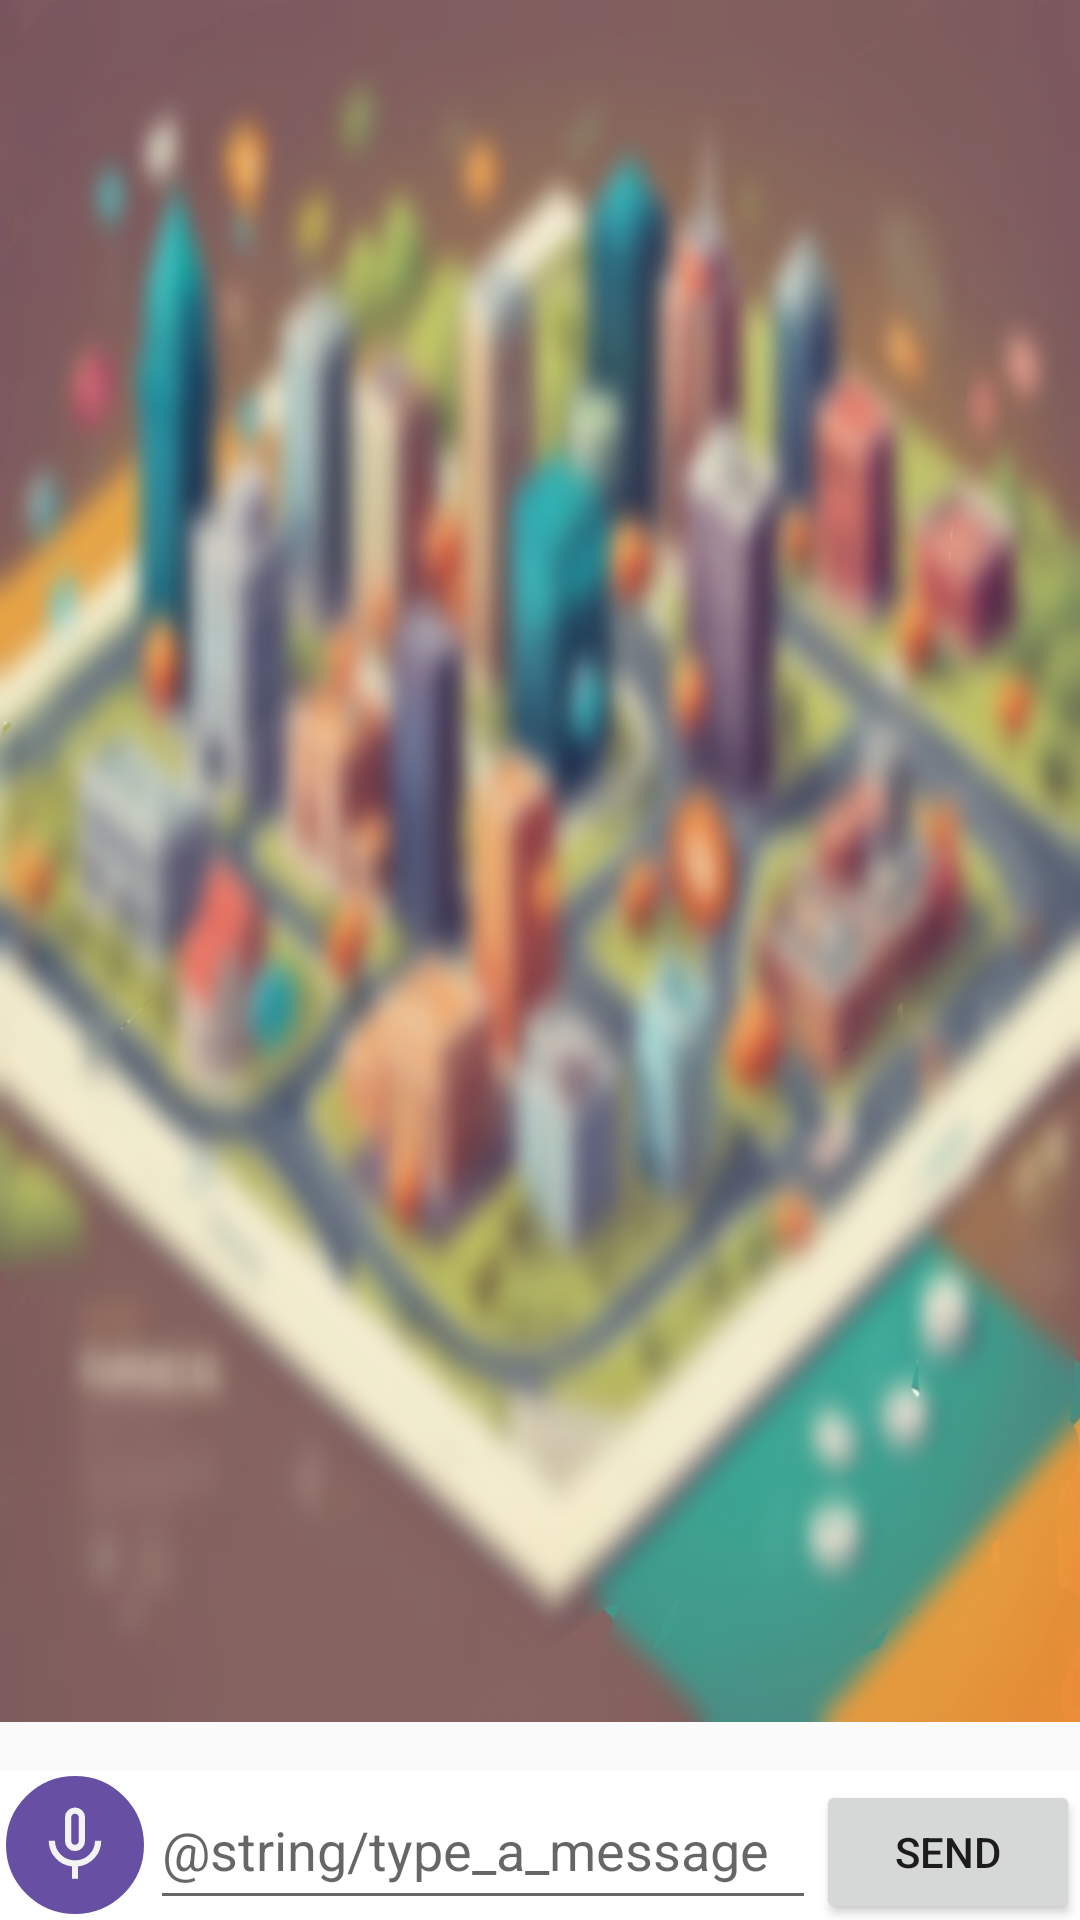

Screen size 1080x1920. Icon name, then its center in pixels as (x=x, y=y):
microphone: (x=75, y=1845)
